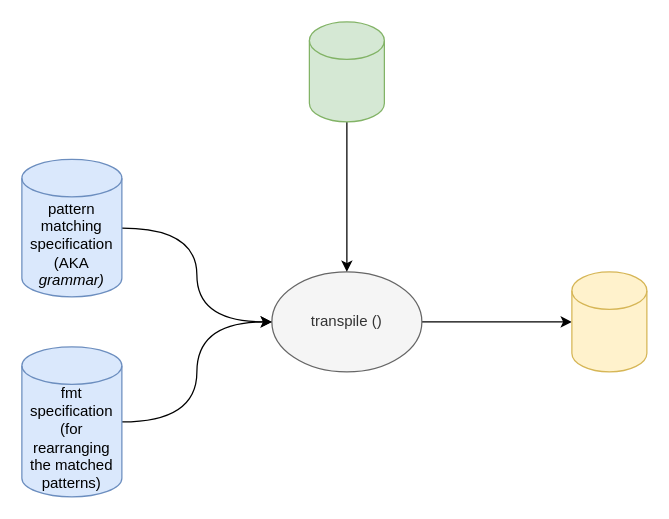
Some shapes in this 669 by 519 pixel diagram are drawn without their labels. The centre of each missing label's shape, as x and y in pixels:
"source code to be transpiled" belongs at pixel 346 71.
"transpiled text" belongs at pixel 609 321.
